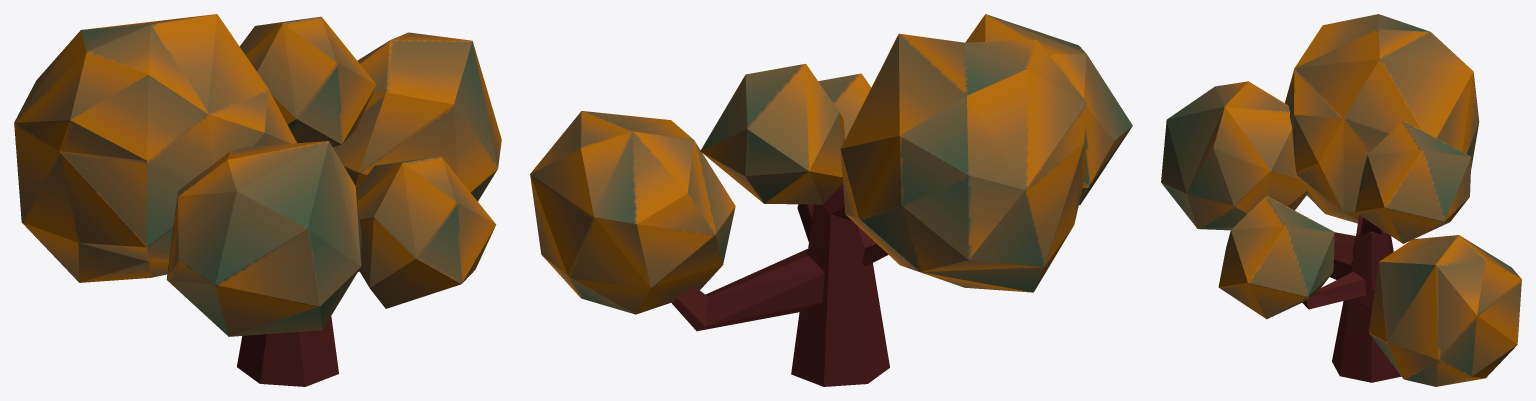
The model's file is Laubbaum1_herbst_final.fbx.
3 views of the same model, side by side, from view 1: azimuth 30°, elevation 25°; view 2: azimuth 150°, elevation 25°; view 3: azimuth 270°, elevation 25° (orthographic). The views are drawn at different scales.
Parts seen in each view (by area): view 1: baum_1; view 2: baum_1; view 3: baum_1.
Part boxes in pixels (x1,y1,x2,y2): baum_1: (14, 14, 501, 386); baum_1: (530, 14, 1132, 386); baum_1: (1161, 14, 1521, 386).
Bounding box in the file's own units: 5411 × 3857 × 4412.
